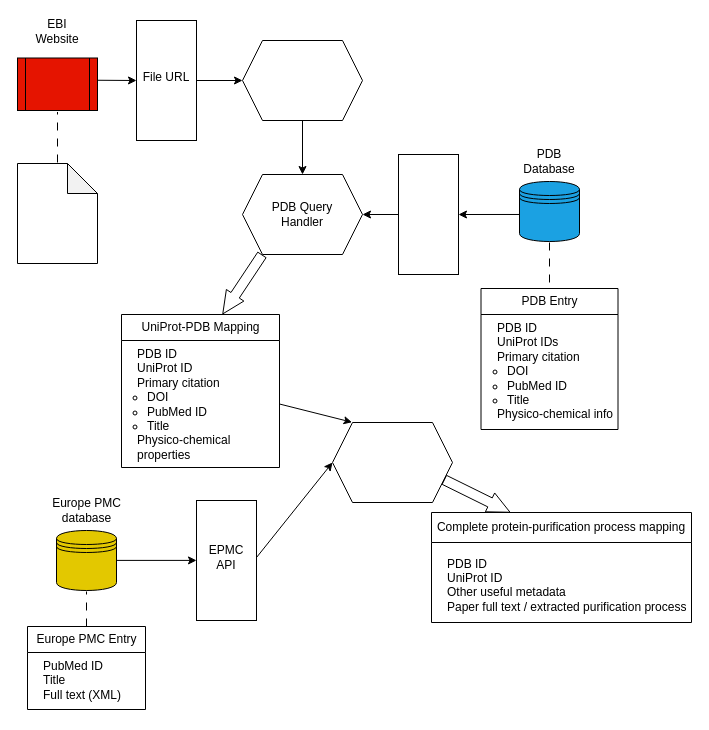
This 709x730 diagram has some shape labels left out. The centre of each missing label's shape, as x and y in pixels:
Europe PMC Query Handler: the point at 392,462
Mapping Downloader: the point at 302,80
PDB API: the point at 428,214
UniProt ID - PDB ID Mapping File: the point at 57,213
